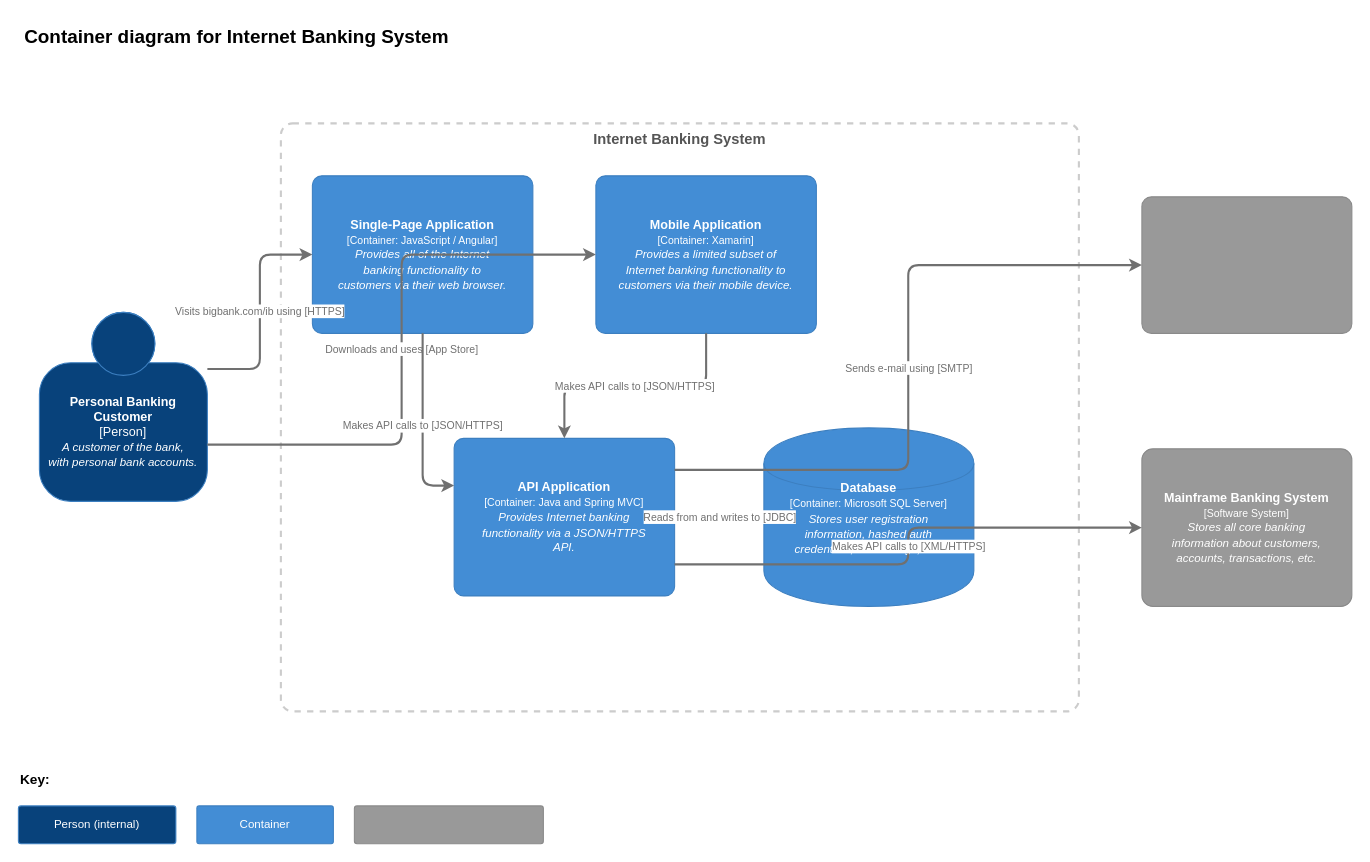
This 1370x862 diagram has some shape labels left out. Here are the shapes that lost their labels. From the top down, the centre of each, then its label:
point (1246, 264): E-mail System [Software System] The internal Microsoft Exchange e-mail system.
point (448, 824): External Software System
